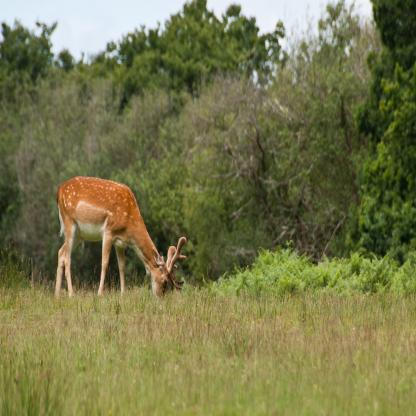Deer: (53, 173, 188, 309)
